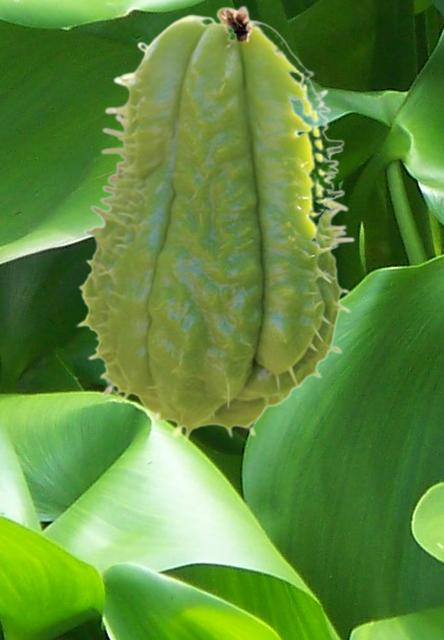sayote: (75, 4, 354, 443)
